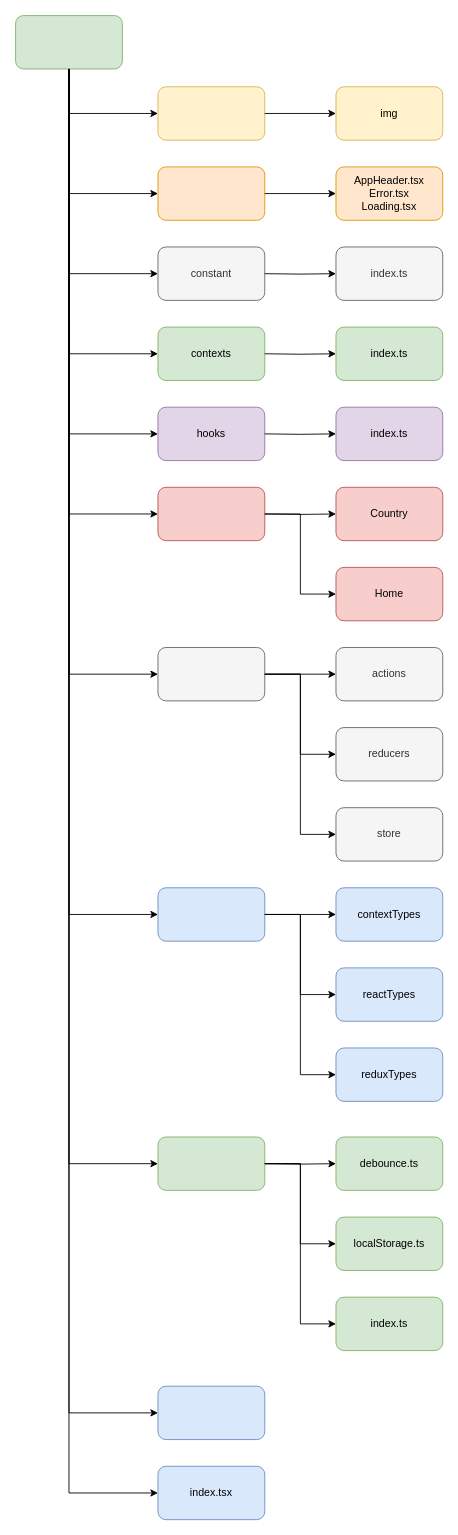
The diagram is 458 pixels wide and 1535 high, and some of its shapes have lost their labels. The shapes that lost their labels are listed below. From the top down, each one's centre as x and y in pixels, then its label:
the point at 68,42: src
the point at 211,113: assets
the point at 211,193: components
the point at 211,513: pages
the point at 211,674: redux
the point at 211,914: types
the point at 211,1163: utility
the point at 211,1412: App.tsx
